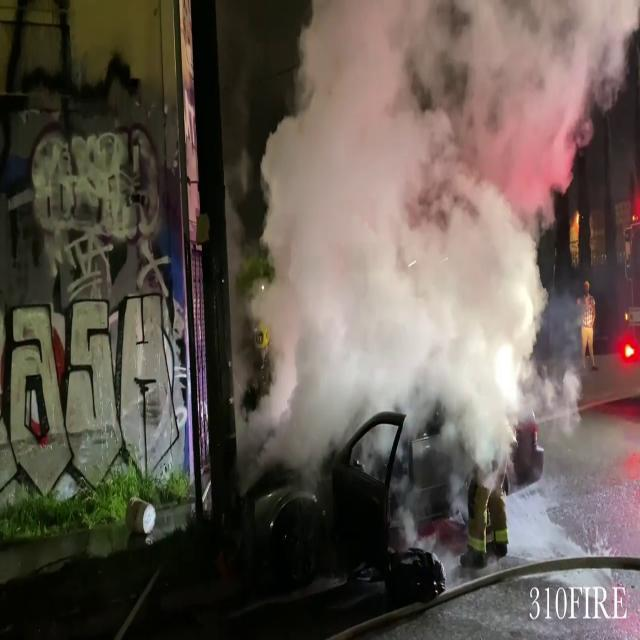Smoke: (230, 0, 554, 429)
